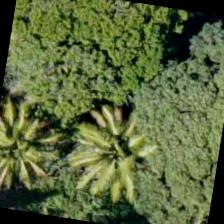Kelapa_Sawit: (52, 96, 154, 200), (0, 106, 60, 205)
